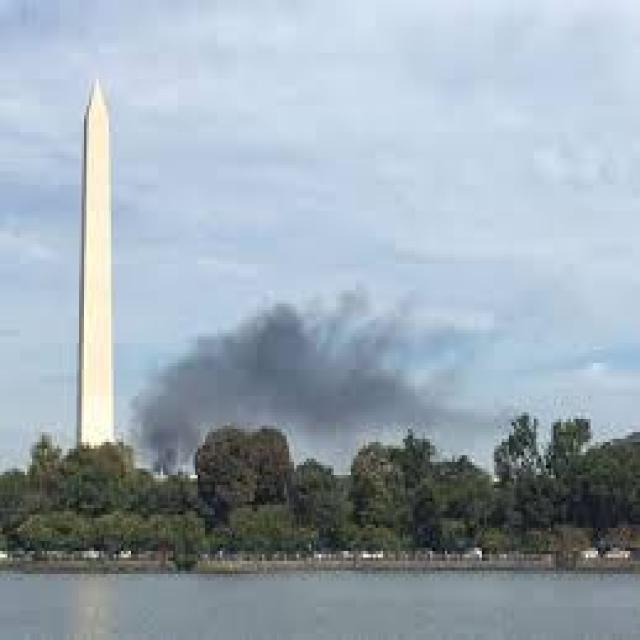Smoke: (128, 278, 520, 478)
